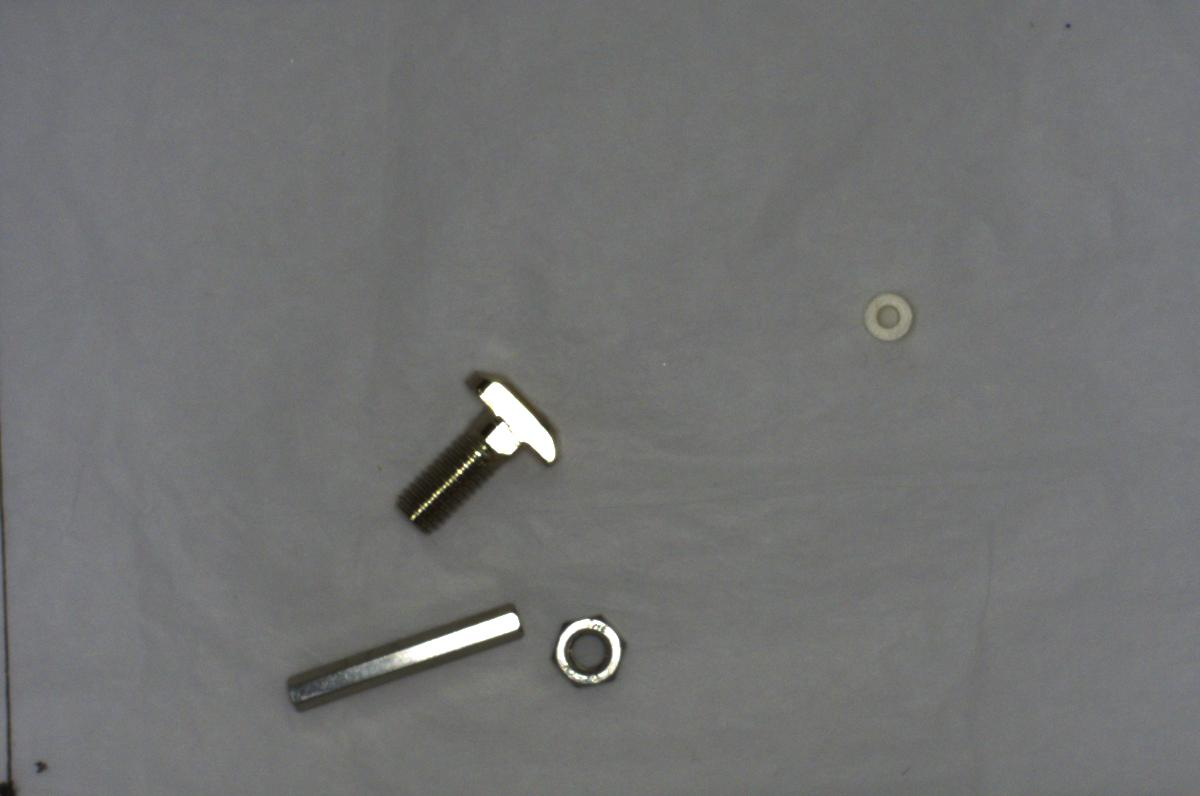Double hexagonal column: (275, 588, 530, 715)
Hexagon nut: (530, 598, 631, 696)
Plastic cushion pillar: (850, 283, 928, 350)
T-shaped screw: (398, 359, 565, 539)
